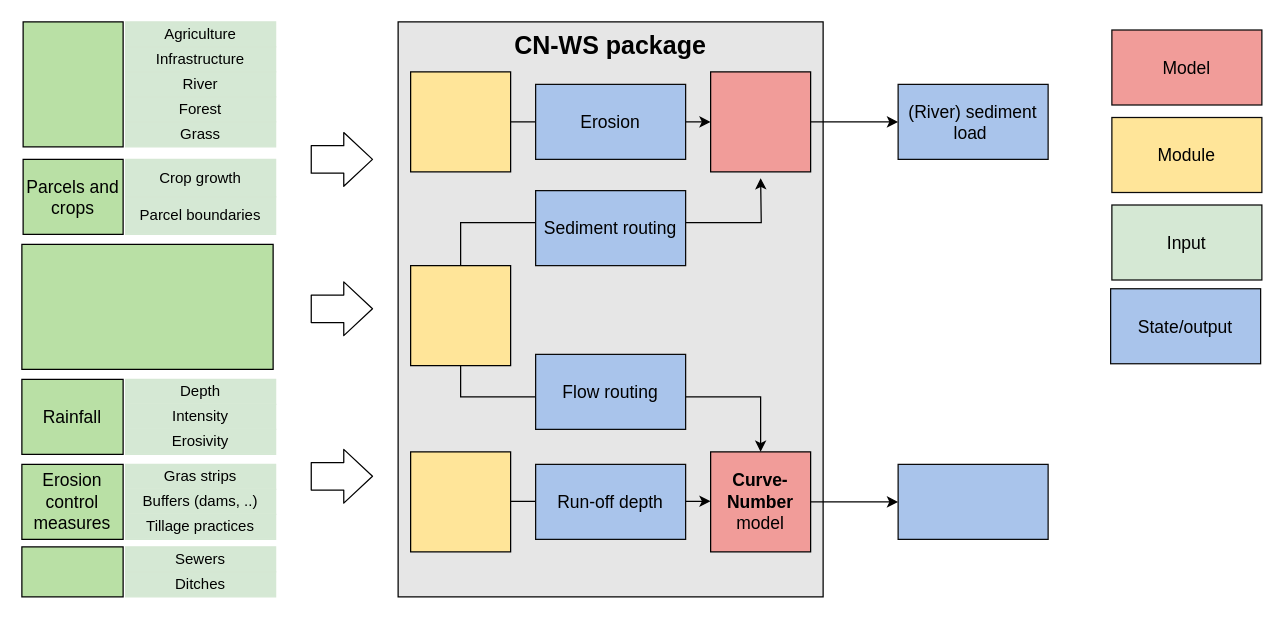
Some shapes in this 1284 by 619 pixel diagram are drawn without their labels. Here are the shapes that lost their labels. From the top down, the centre of each, then its label:
At point (72, 84): "Land cover".
At point (460, 121): "Erosion module: WaTEM".
At point (760, 121): "WaTEM /SEDEM model".
At point (147, 306): "Elevation".
At point (460, 315): "Routing/ transport module: SEDEM".
At point (460, 501): "Run-off module".
At point (972, 501): "River flow".
At point (72, 571): "Additional".
